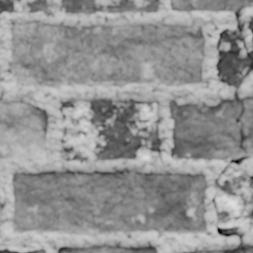brick: (13, 171, 206, 234), (12, 22, 204, 85), (59, 99, 160, 161), (0, 102, 47, 159), (217, 171, 252, 226), (63, 0, 158, 13), (0, 0, 46, 12), (58, 247, 156, 252), (0, 250, 18, 252), (25, 251, 44, 252)
broken_brick: (168, 99, 243, 160), (215, 28, 249, 88), (170, 0, 252, 13), (242, 96, 252, 156), (177, 244, 252, 252), (242, 21, 252, 52), (245, 73, 252, 81)
crack: (212, 2, 252, 250)
